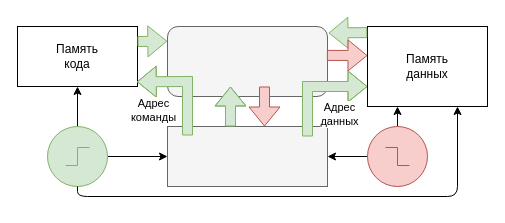
This 505x223 diagram has some shape labels left out. The centre of each missing label's shape, as x and y in pixels:
Логика: (x=247, y=61)
Регистры: (x=247, y=156)
